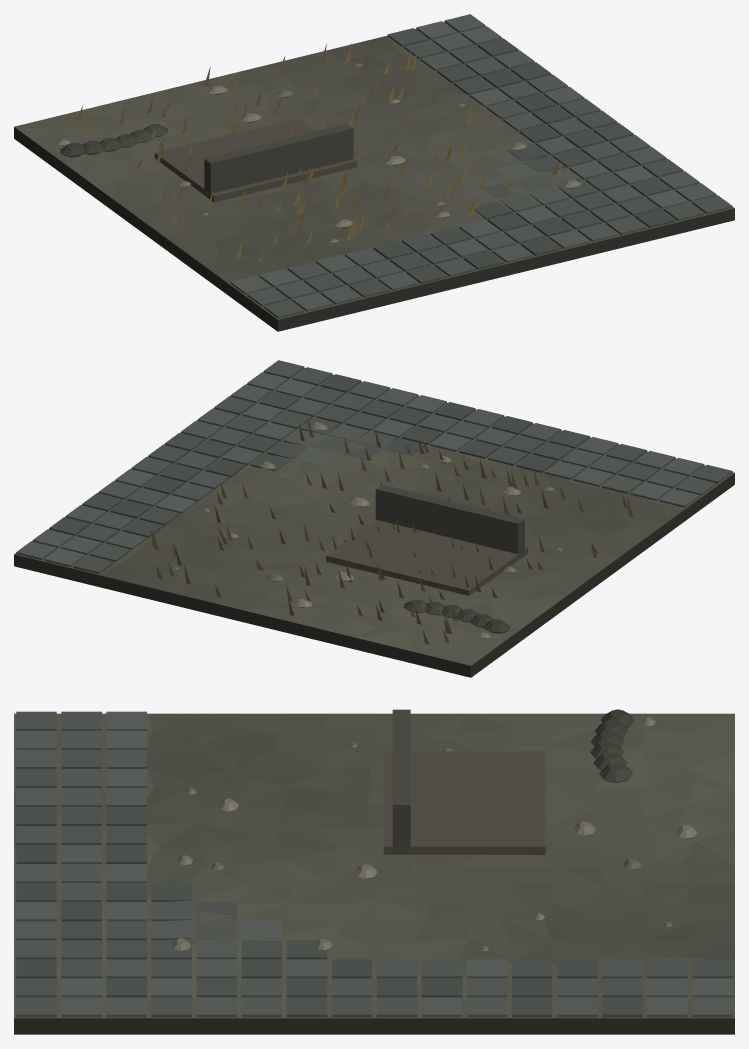
Rendered from CHUNK_abandoned_village__evacuated_funeral_hamlet__00.glb.
The picture shows the model from 3 angles, top to bottom: view 1: azimuth 30°, elevation 25°; view 2: azimuth 150°, elevation 25°; view 3: azimuth 270°, elevation 25°; orthographic projection. The views are drawn at different scales.
Visible parts, largest first — view 1: CHUNK_abandoned_village__evacuated_funeral_hamlet__00; view 2: CHUNK_abandoned_village__evacuated_funeral_hamlet__00; view 3: CHUNK_abandoned_village__evacuated_funeral_hamlet__00.
Part boxes in pixels (box(x1,y1,x2,y2)): CHUNK_abandoned_village__evacuated_funeral_hamlet__00: box(14, 14, 734, 331); CHUNK_abandoned_village__evacuated_funeral_hamlet__00: box(14, 360, 734, 677); CHUNK_abandoned_village__evacuated_funeral_hamlet__00: box(14, 709, 734, 1034).
Bounding box in the file's own units: 8 × 0.83 × 8.
